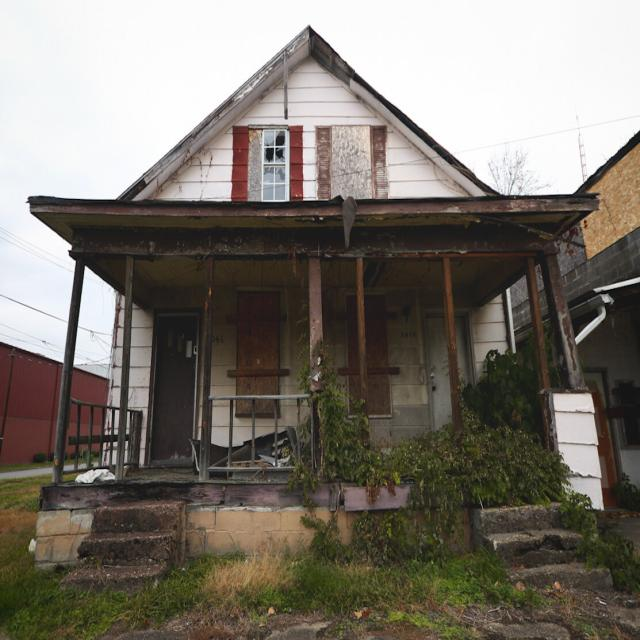House: (28, 24, 605, 586)
